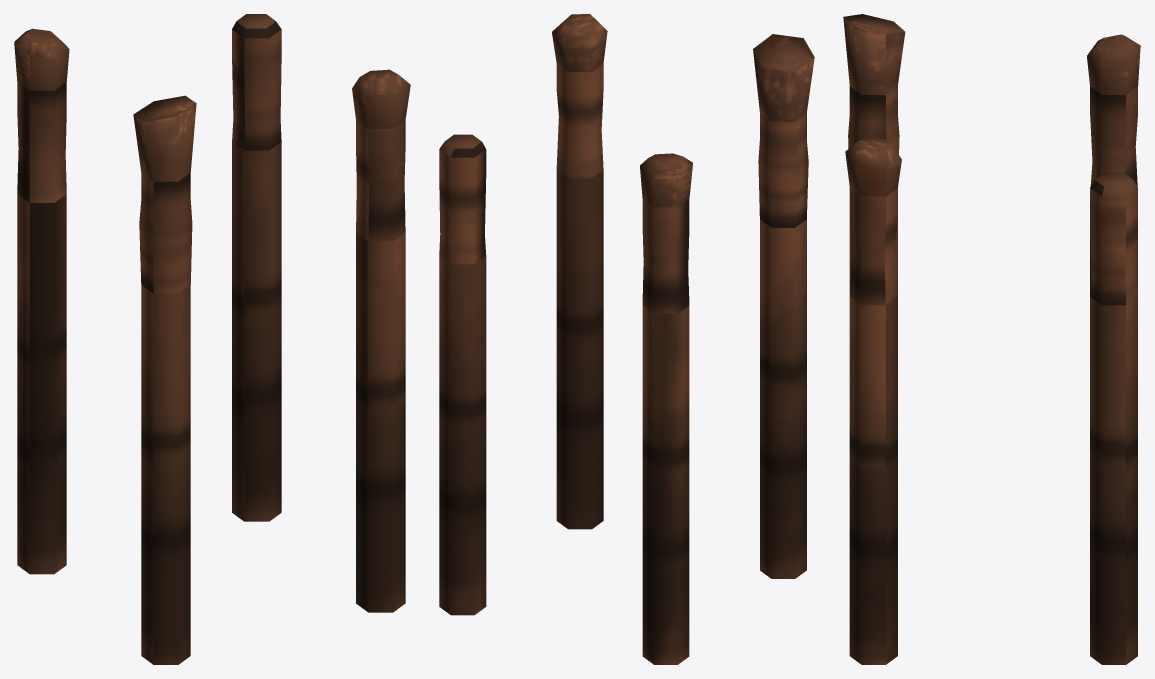
File: dock_post.glb
3 views of the same model, side by side, from view 1: azimuth 30°, elevation 25°; view 2: azimuth 150°, elevation 25°; view 3: azimuth 270°, elevation 25° (orthographic). The views are drawn at different scales.
Parts seen in each view (by area): view 1: post_middle2; view 2: post_middle2; view 3: post_middle2.
Part boxes in pixels (x1=…): post_middle2: x1=14, y1=14, x2=410, y2=664; post_middle2: x1=439, y1=14, x2=814, y2=664; post_middle2: x1=843, y1=14, x2=1140, y2=664.
Size of the model in its own units: 4.95 by 9.89 by 4.96.
1 material, 1 textured.
